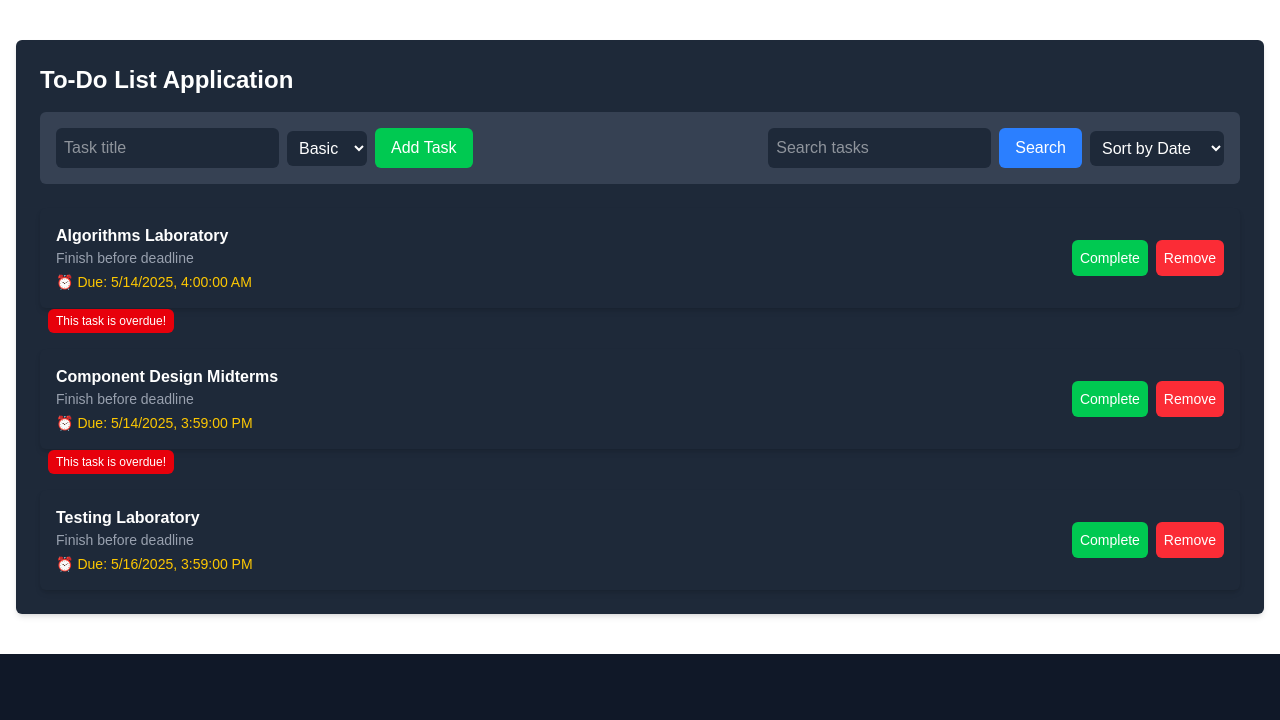
Scenario: Todo App Edge Cases › prevents adding a task without a title
This screenshot has width=1280, height=720.
Click the button "Add Task".
click(424, 148)  # box [375, 128, 473, 168]
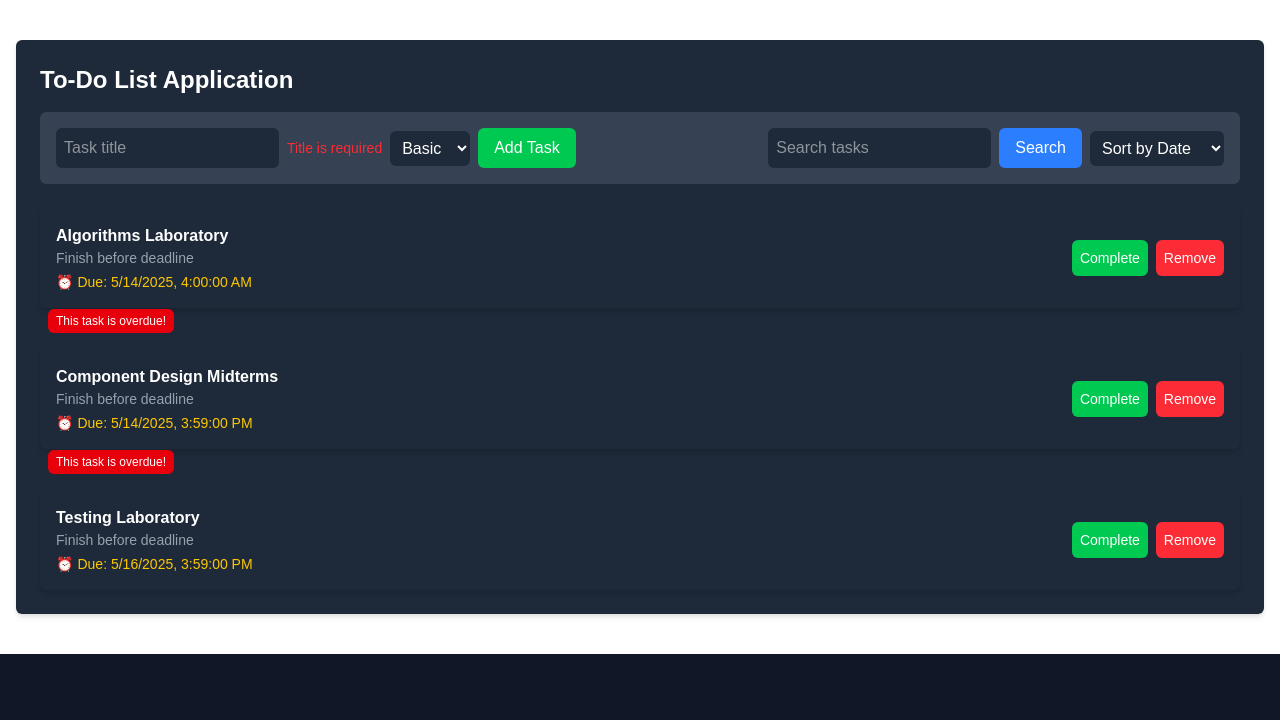
Expected: the text "Title is required" is shown, [287, 138, 382, 158]
